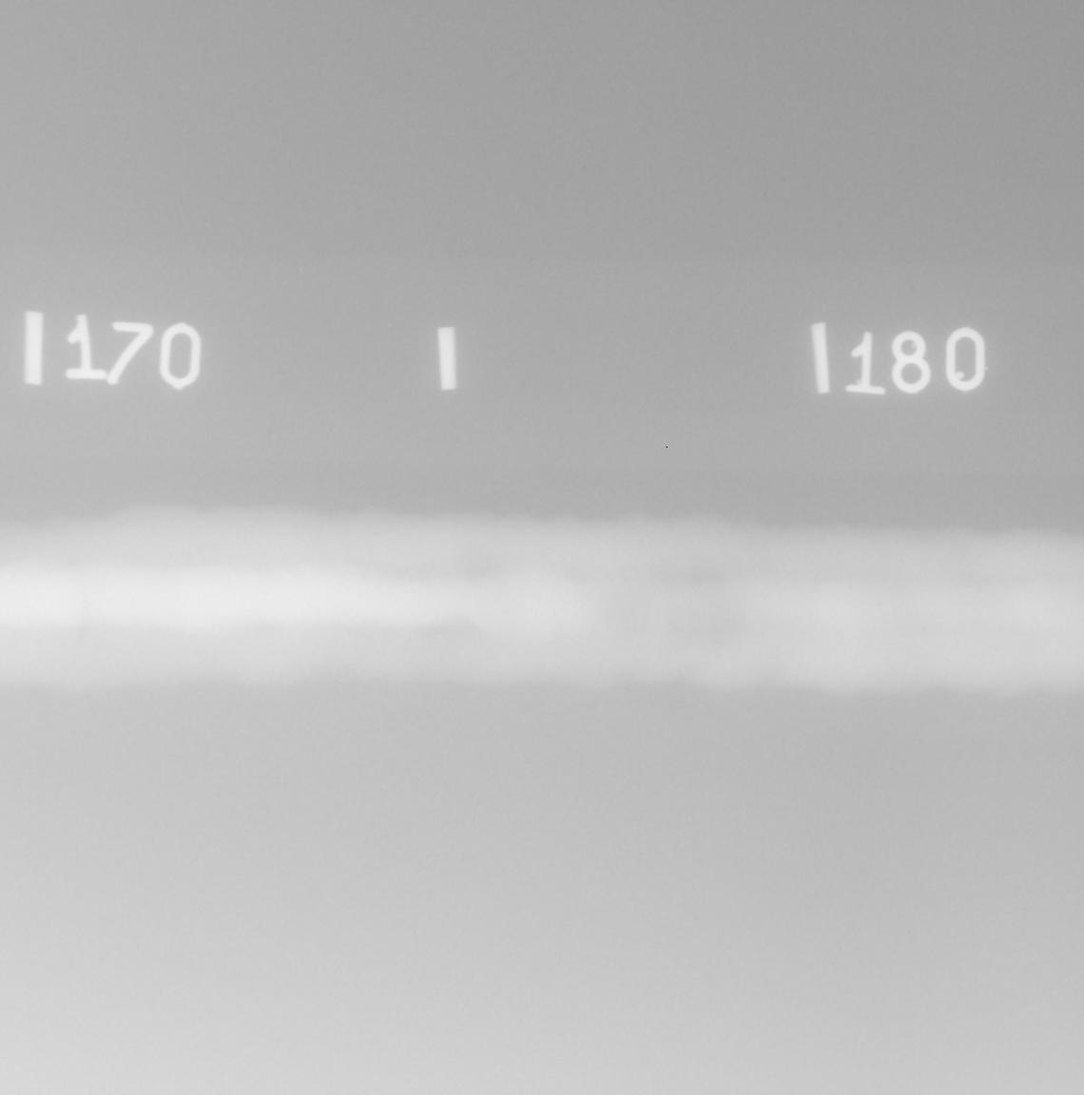Pore/Porosity: (922, 626, 927, 631)
